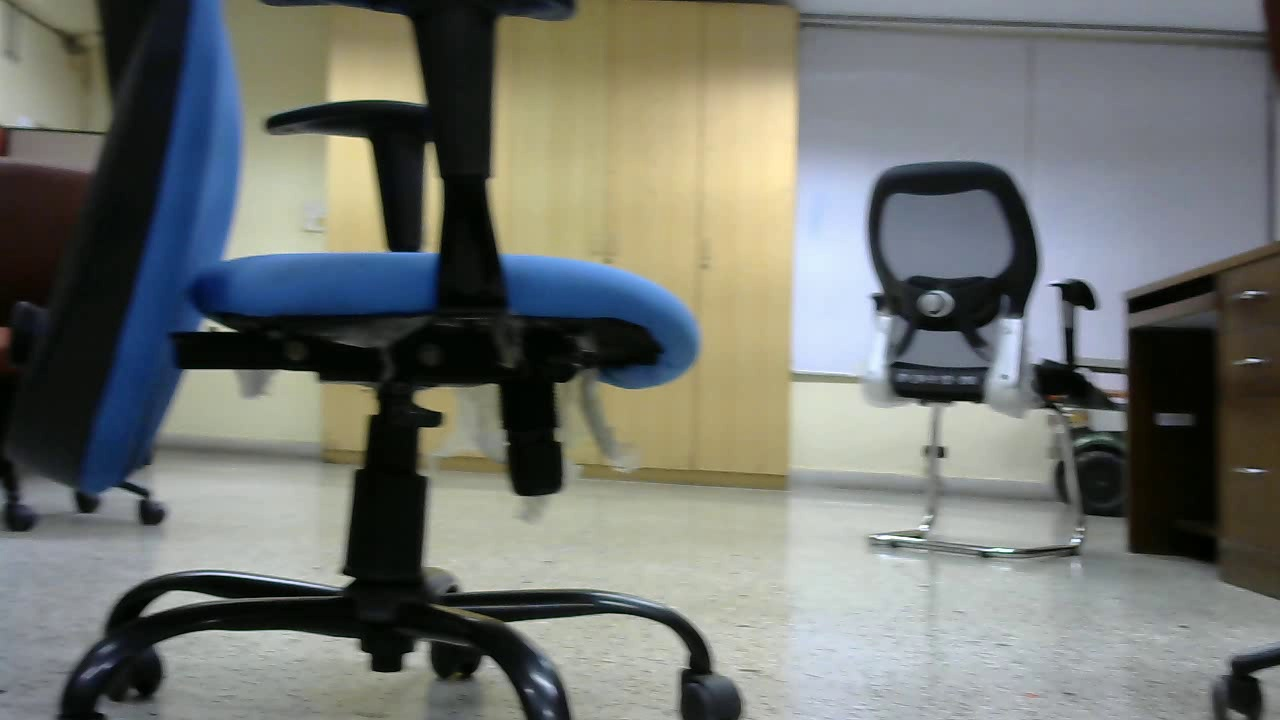chair: (27, 5, 746, 717), (849, 155, 1106, 563)
